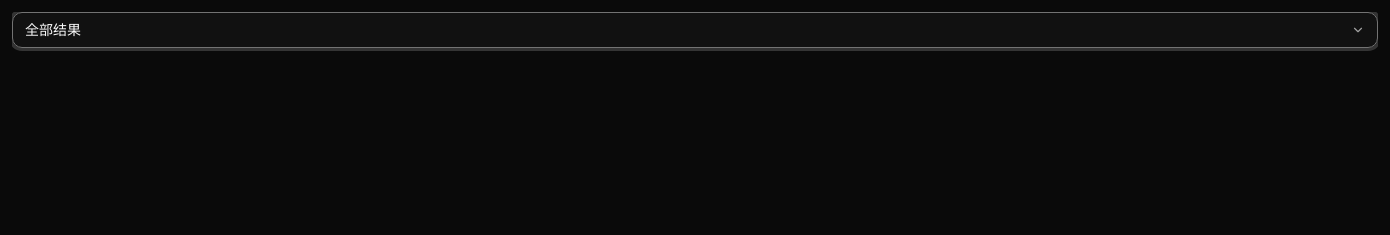
自定义菜单可选择、清空和保留特殊业务值
This screenshot has width=1390, height=235.
Press Enter
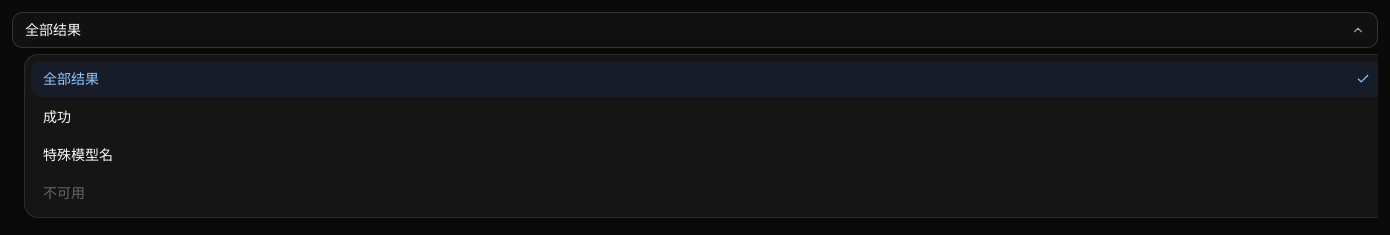
Click the option "成功" at (57,116), box [43,108,71,125]
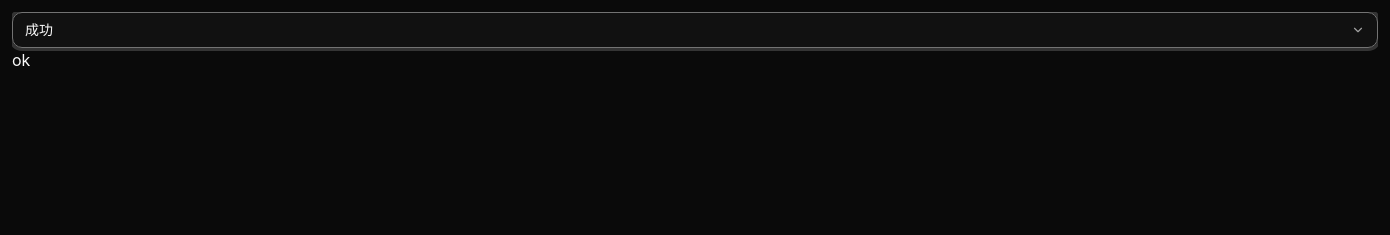
Expected: the dropdown named "结果" reads "成功", [12,12,1378,48]
Expected: the text with test id "selected" reads "ok", [12,50,30,70]
Press Enter
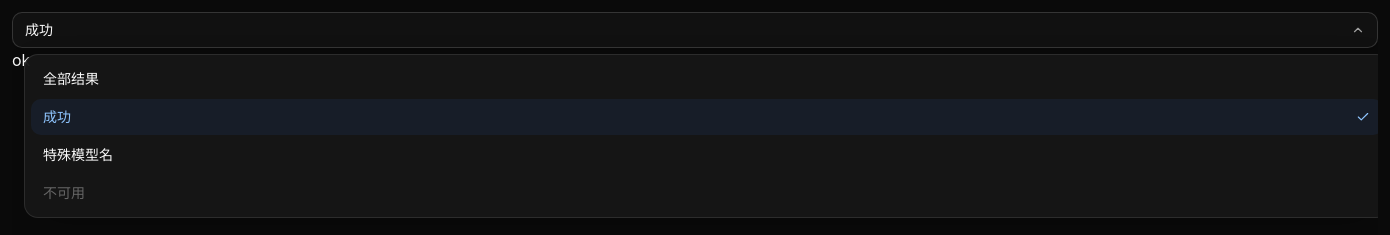
Click the option "全部结果" at (71,78), box [43,70,99,87]
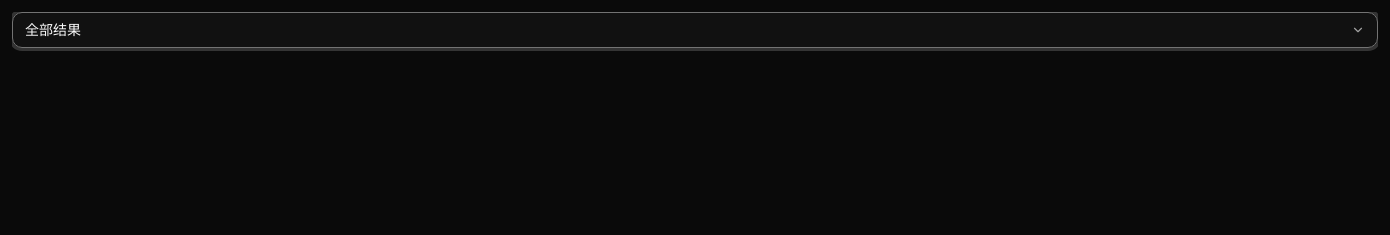
Press Enter
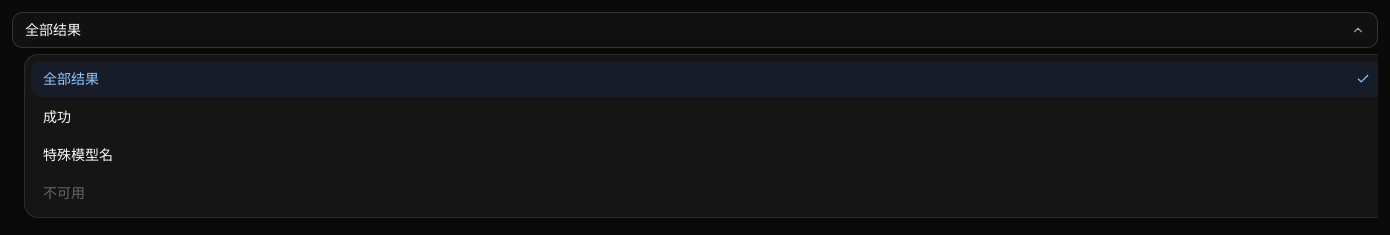
Click the option "特殊模型名" at (78,154), box [43,146,113,163]
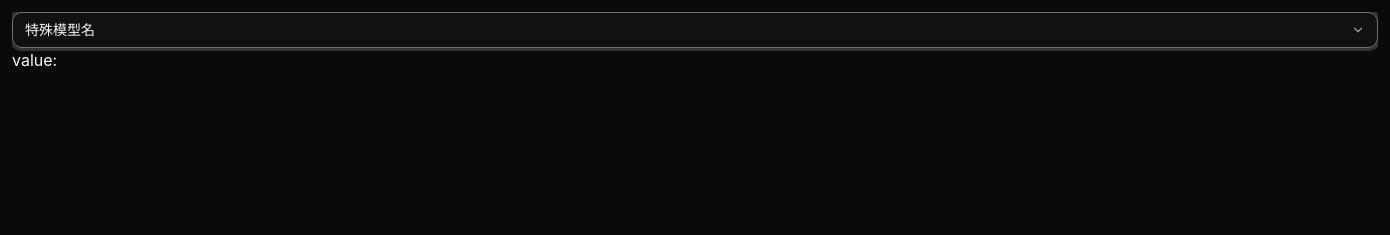
Expected: the text with test id "selected" reads "value:", [12,50,57,70]
